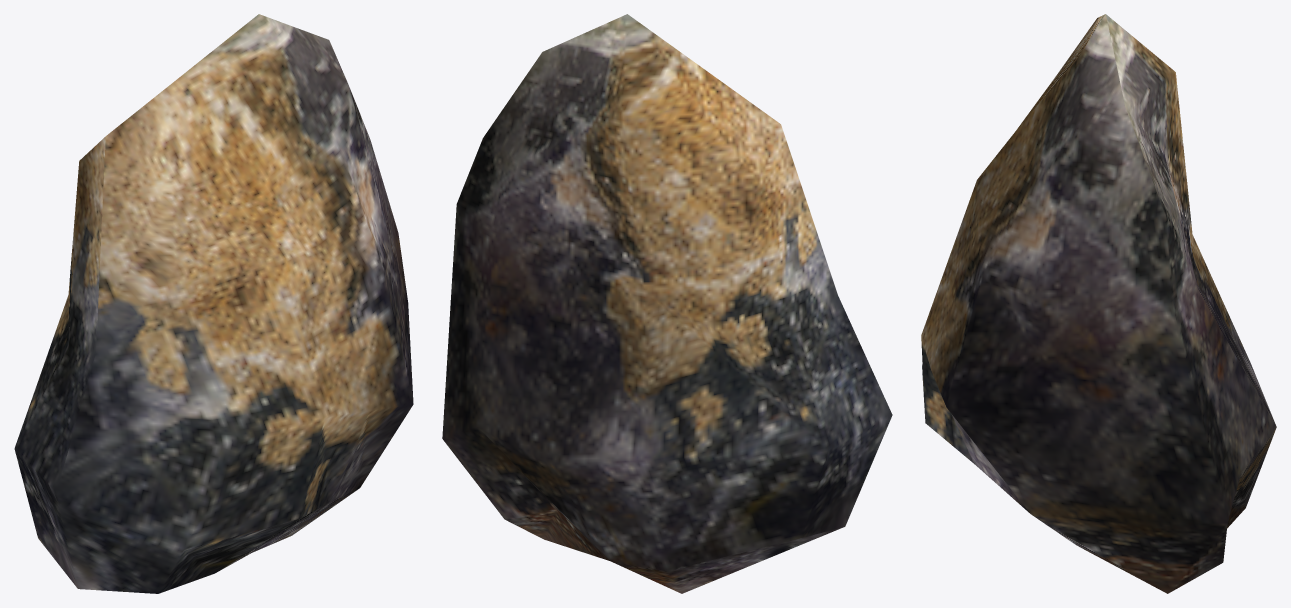
The model's file is rock2.fbx.
3 views of the same model, side by side, from view 1: azimuth 30°, elevation 25°; view 2: azimuth 150°, elevation 25°; view 3: azimuth 270°, elevation 25° (orthographic). The views are drawn at different scales.
Visible parts, largest first — view 1: rock; view 2: rock; view 3: rock.
Boxes of the visible parts, box(x1,y1,x2,y2) form: rock: box(14, 14, 413, 593); rock: box(442, 14, 892, 593); rock: box(921, 14, 1276, 593).
Bounding box in the file's own units: 76.72 × 108 × 60.1.
